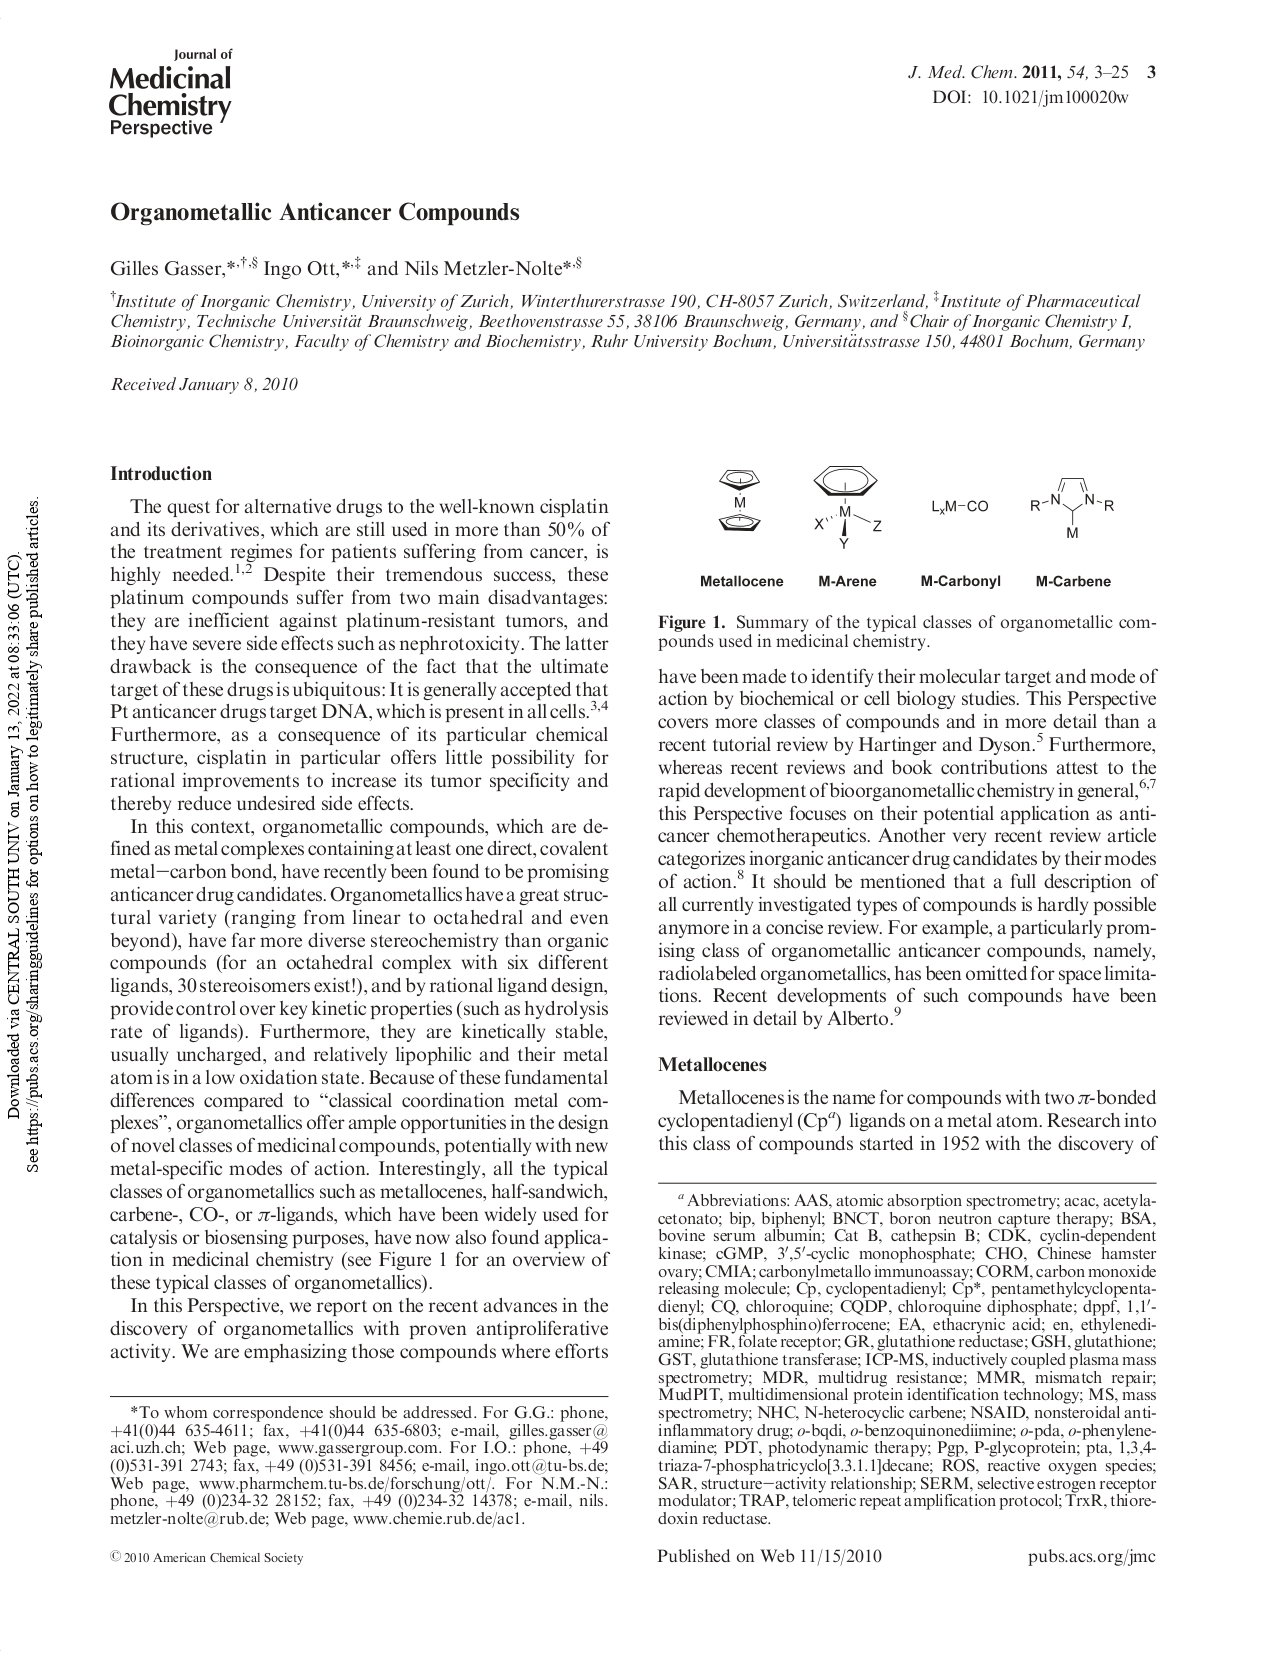exist_molecular: (807, 457, 890, 551), (1029, 473, 1118, 543), (711, 465, 767, 536), (930, 489, 992, 519)
